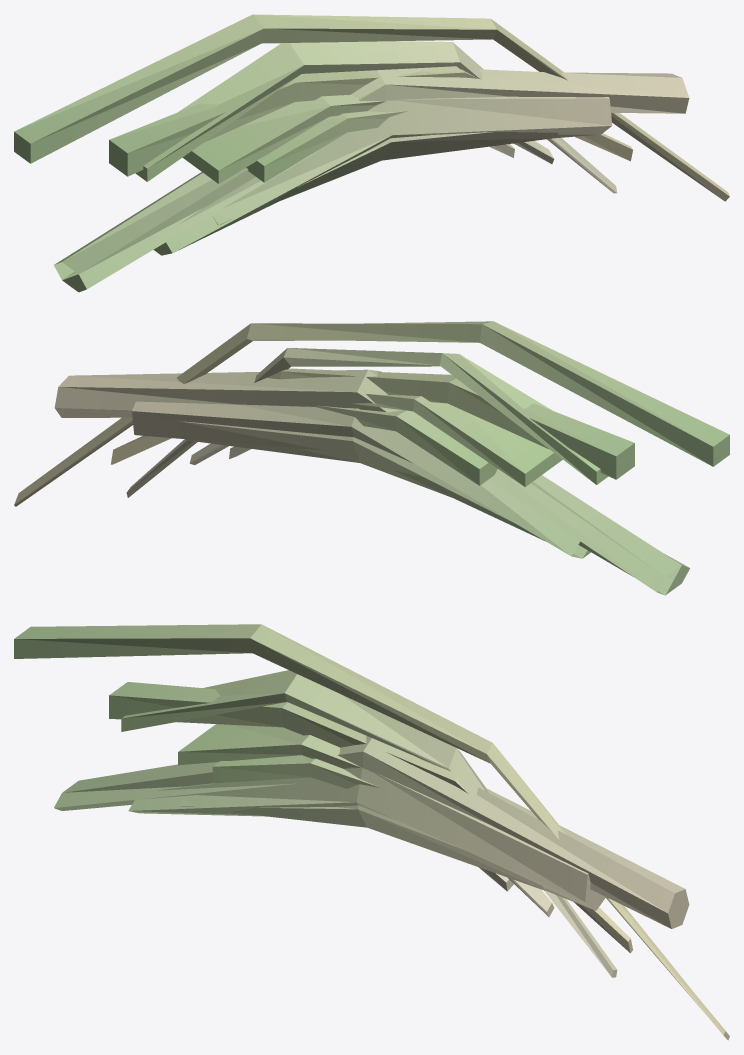
File: restos.glb
3 views of the same model, one above another, from view 1: azimuth 30°, elevation 25°; view 2: azimuth 150°, elevation 25°; view 3: azimuth 330°, elevation 25° (orthographic).
Parts seen in each view (by area): view 1: TalloMaleza2, CanaZarza2, CanaZarza1, HojaCesped2, TalloMaleza1, HojaCesped1, CanaZarza3, HojaCesped3; view 2: CanaZarza2, TalloMaleza2, CanaZarza1, TalloMaleza1, HojaCesped2, HojaCesped1, CanaZarza3, HojaCesped3; view 3: TalloMaleza2, CanaZarza2, CanaZarza1, HojaCesped2, TalloMaleza1, HojaCesped1, CanaZarza3, HojaCesped3.
Boxes of the visible parts, box(x1,y1,x2,y2) form: TalloMaleza2: box(14, 14, 729, 201); CanaZarza2: box(54, 67, 689, 292); CanaZarza1: box(153, 96, 612, 255); HojaCesped2: box(135, 41, 617, 193); TalloMaleza1: box(109, 66, 632, 176); HojaCesped1: box(182, 94, 554, 183); CanaZarza3: box(212, 132, 558, 225); HojaCesped3: box(246, 111, 514, 182); CanaZarza2: box(54, 369, 689, 595); TalloMaleza2: box(14, 321, 729, 506); CanaZarza1: box(131, 401, 590, 558); TalloMaleza1: box(111, 368, 634, 479); HojaCesped2: box(126, 348, 608, 497); HojaCesped1: box(189, 394, 562, 486); CanaZarza3: box(180, 421, 513, 522); HojaCesped3: box(229, 405, 497, 485); TalloMaleza2: box(14, 624, 729, 1040); CanaZarza2: box(54, 735, 689, 928); CanaZarza1: box(128, 768, 605, 910); HojaCesped2: box(121, 670, 617, 977); TalloMaleza1: box(109, 682, 632, 953); HojaCesped1: box(178, 724, 554, 916); CanaZarza3: box(178, 797, 546, 890); HojaCesped3: box(212, 755, 513, 891).
Size of the model in its own units: 0.22 by 0.0894 by 0.028.
